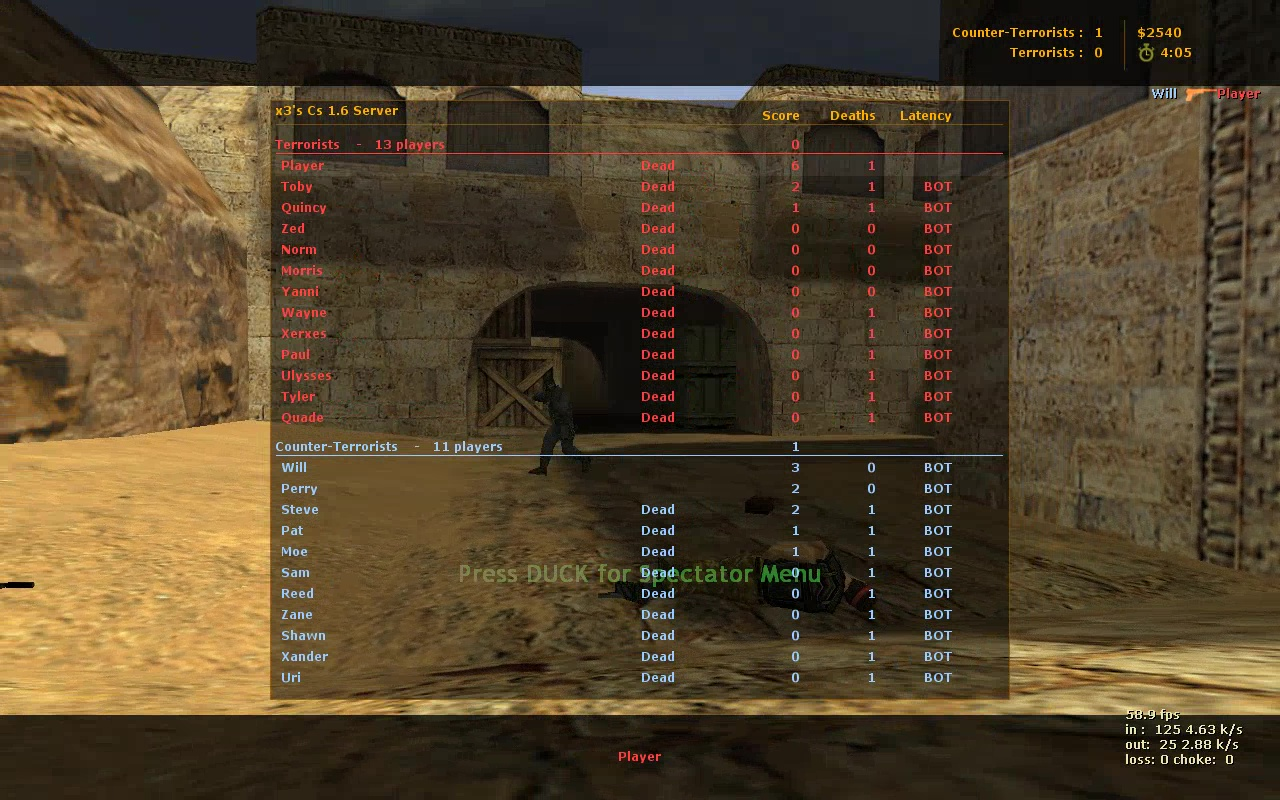ct: (529, 376, 590, 481)
dead: (615, 535, 877, 620)
